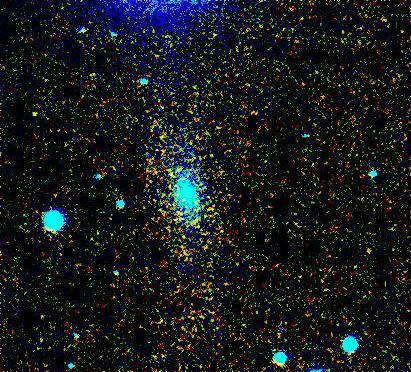star: (29, 98, 59, 128)
